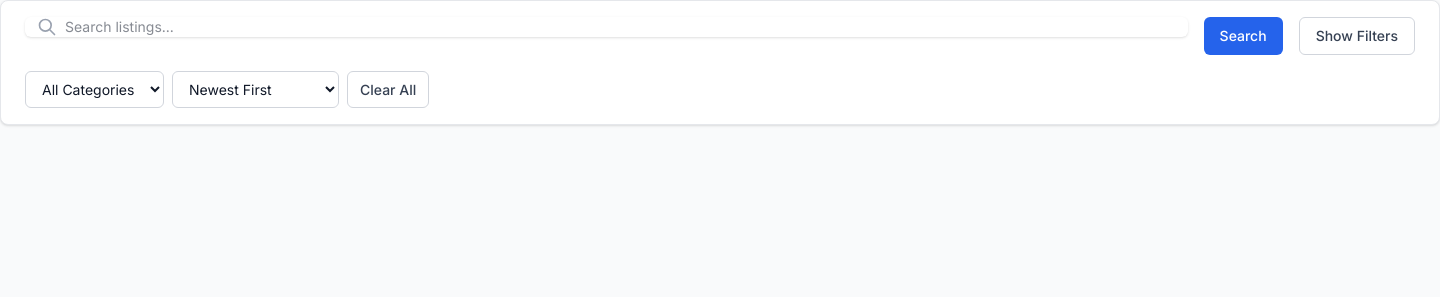
Test: SearchFilters › toggles the advanced filters section
Expected: the text "Min Price (THB)" is not shown
Click the button "Show Filters".
click(1357, 36)  # box left=1299, top=17, right=1415, bottom=55
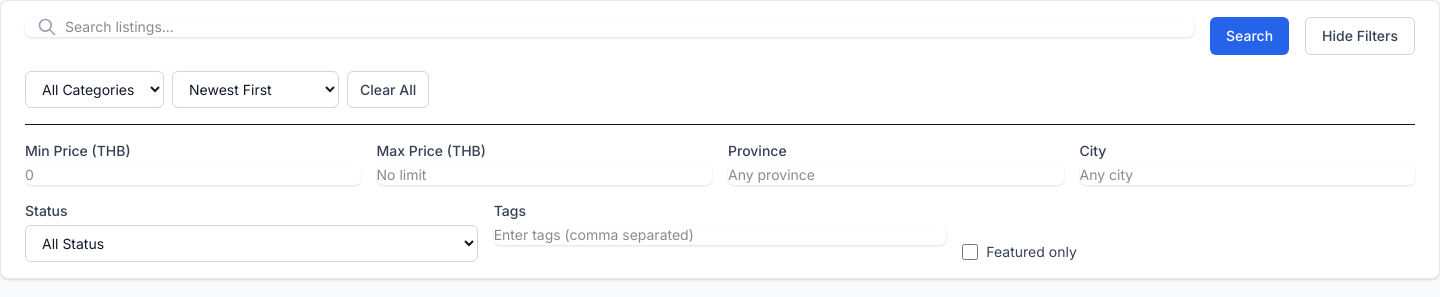
Expected: the text "Min Price (THB)" is shown, left=25, top=142, right=131, bottom=159
Click the button "Hide Filters".
click(1360, 36)  # box left=1305, top=17, right=1415, bottom=55
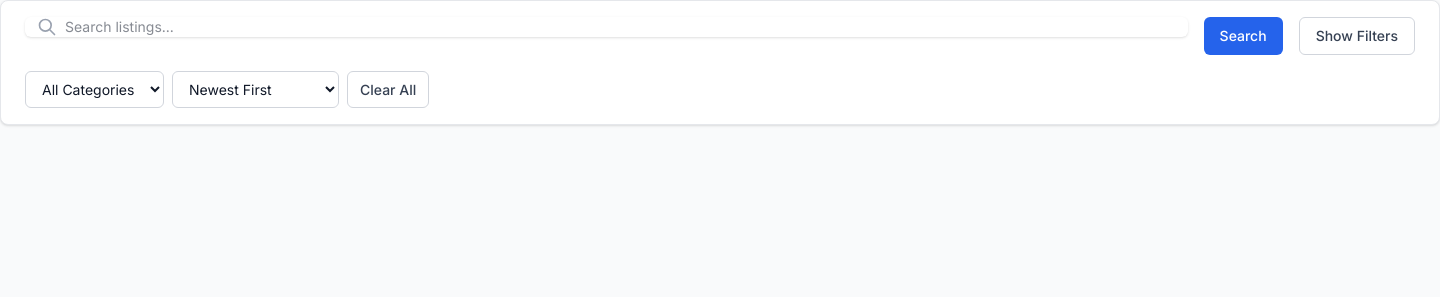
Expected: the text "Min Price (THB)" is gone
